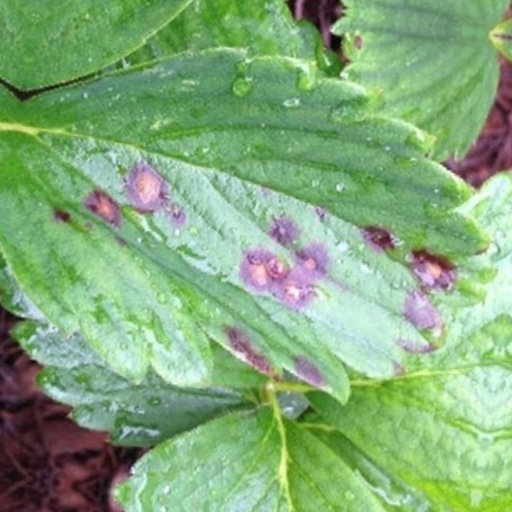Leaf Spot: (0, 52, 498, 405)
